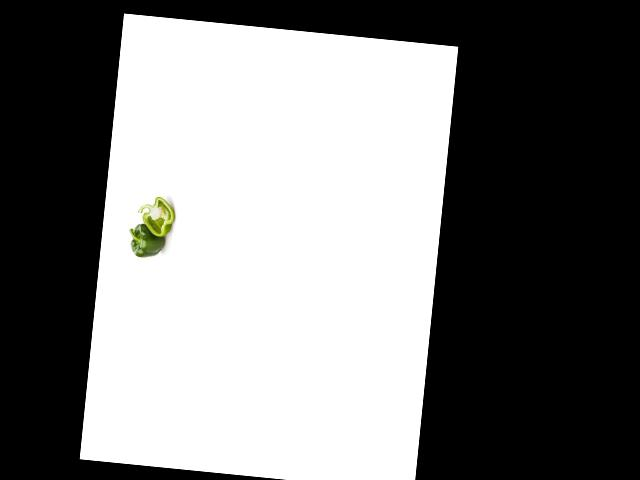bell_pepper: (134, 192, 175, 239)
